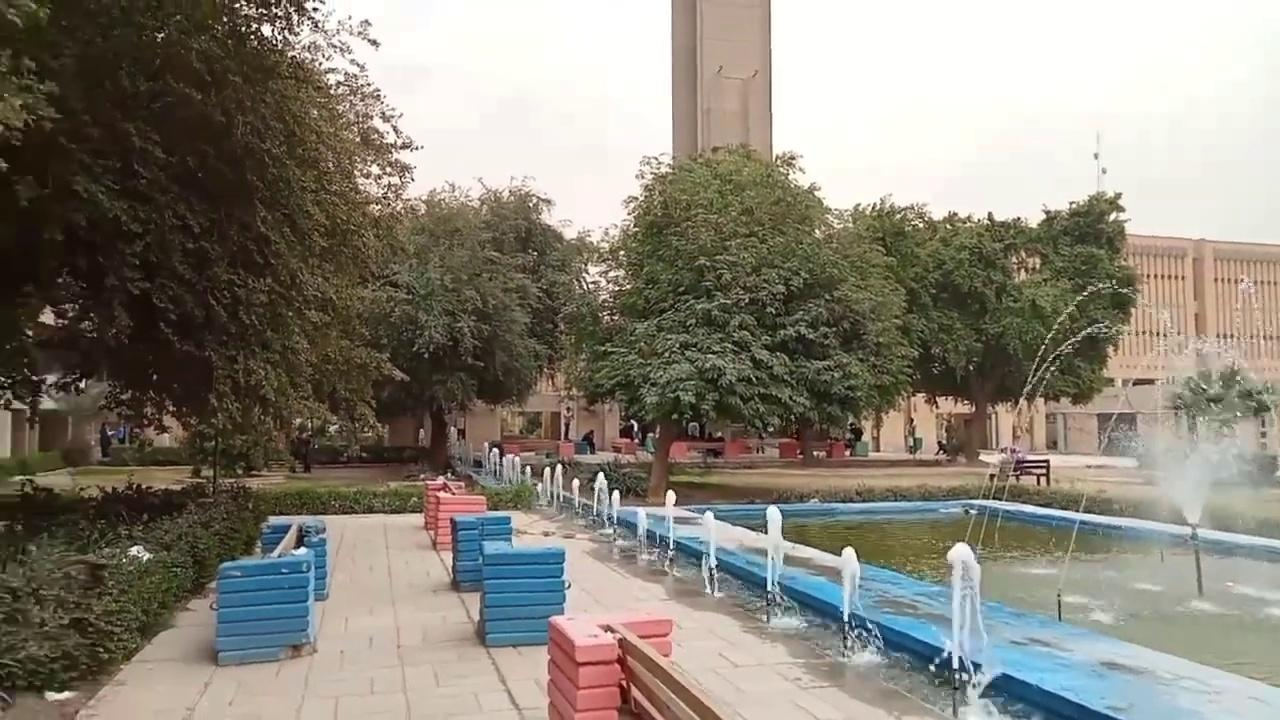fountain: (446, 437, 1278, 718), (926, 539, 1008, 717)
person: (98, 421, 112, 457), (905, 417, 916, 455), (581, 428, 596, 454), (644, 431, 656, 455)
tree: (0, 0, 423, 483), (575, 140, 912, 502), (350, 181, 546, 476), (442, 174, 604, 462), (984, 189, 1141, 454), (908, 206, 1037, 461), (836, 194, 959, 456), (1169, 357, 1277, 454), (0, 361, 87, 459)
